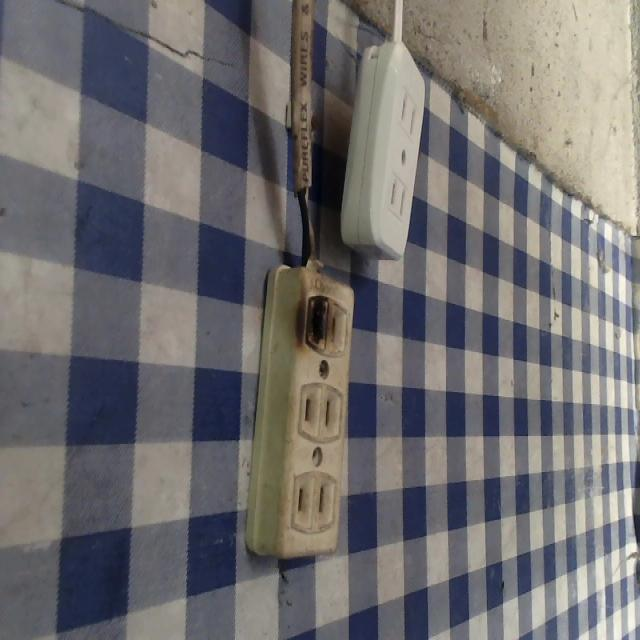-: (296, 288, 335, 361)
